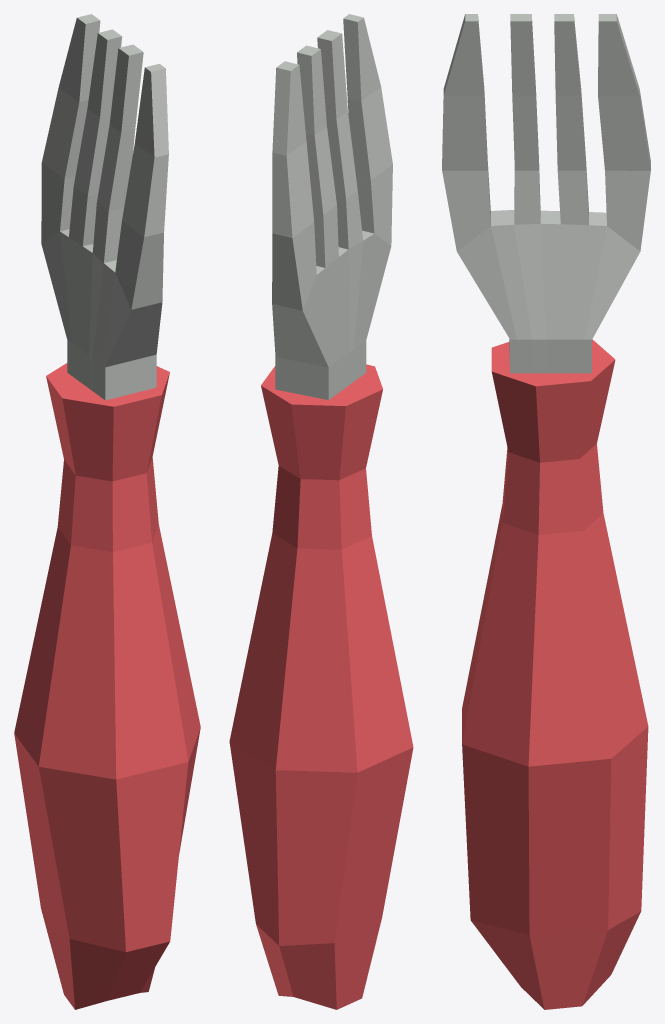
The model's file is fork.fbx.
3 views of the same model, side by side, from view 1: azimuth 30°, elevation 25°; view 2: azimuth 150°, elevation 25°; view 3: azimuth 270°, elevation 25° (orthographic). The views are drawn at different scales.
Visible parts, largest first — view 1: fork; view 2: fork; view 3: fork.
Boxes of the visible parts, x1,y1,x2,y2 form: fork: (14, 14, 200, 1009); fork: (229, 14, 413, 1009); fork: (442, 14, 650, 1009).
Bounding box in the file's own units: 142 × 800 × 155.
